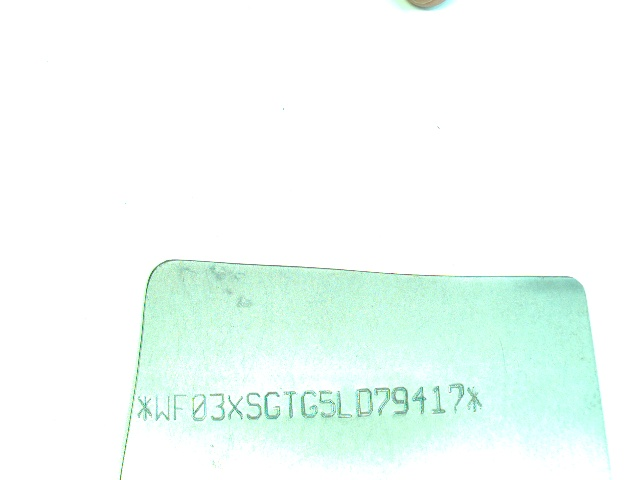0: (188, 391, 207, 422)
1: (429, 384, 447, 416)
3: (207, 390, 228, 422)
4: (411, 384, 427, 415)
5: (318, 388, 336, 419)
7: (447, 382, 467, 415), (374, 386, 391, 418)
9: (391, 385, 411, 416)
d: (353, 387, 375, 418)
f: (172, 392, 187, 423)
g: (263, 389, 282, 420), (299, 389, 318, 419)
l: (335, 387, 352, 419)
s: (245, 390, 262, 422)
t: (282, 390, 299, 419)
w: (152, 394, 172, 422)
x: (227, 392, 245, 423)
